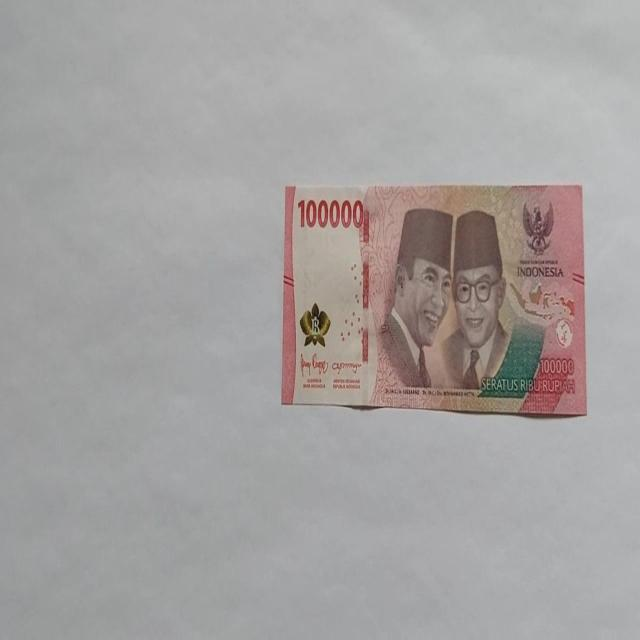Kertas: (281, 181, 587, 416), (296, 196, 364, 230)
